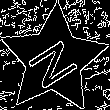N_NE: (23, 29, 85, 90)
